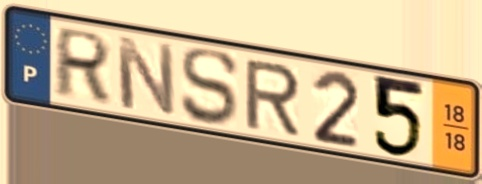2: (309, 68, 361, 152)
5: (369, 72, 430, 161)
N: (112, 33, 178, 120)
R: (51, 24, 115, 105), (242, 57, 303, 137)
S: (178, 47, 241, 128)
